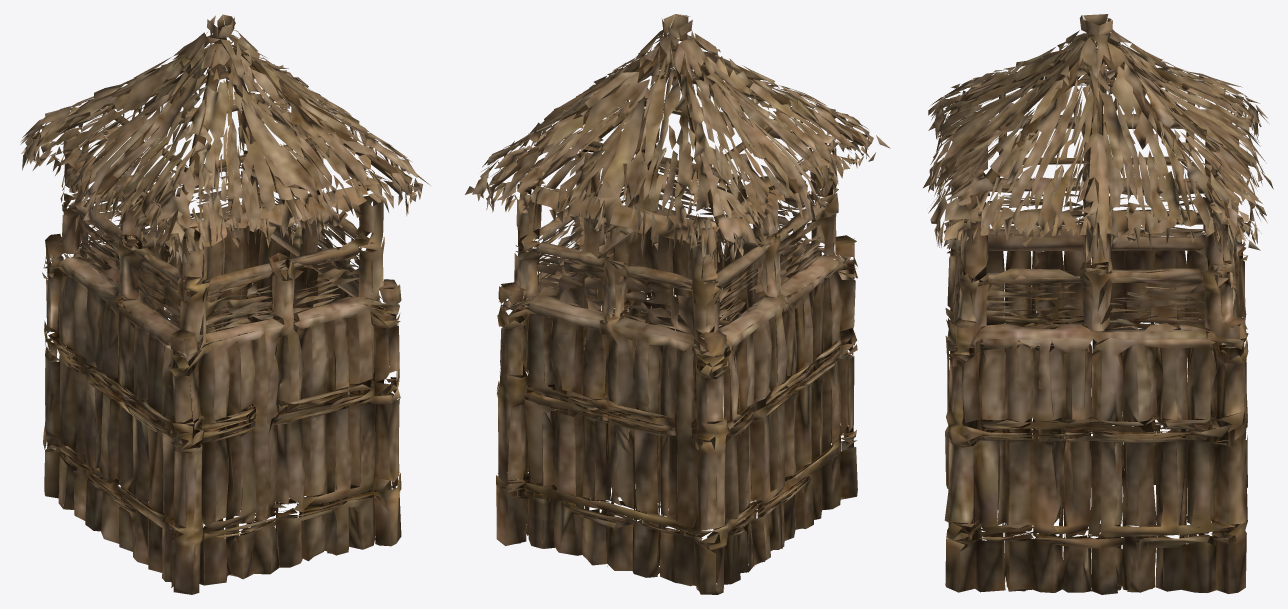
File: watchtower_far.glb
3 views of the same model, side by side, from view 1: azimuth 30°, elevation 25°; view 2: azimuth 150°, elevation 25°; view 3: azimuth 270°, elevation 25° (orthographic). The views are drawn at different scales.
Visible parts, largest first — view 1: model; view 2: model; view 3: model.
Part boxes in pixels (left/top/right/bottom): model: left=20, top=14, right=430, bottom=594; model: left=465, top=14, right=890, bottom=594; model: left=923, top=14, right=1273, bottom=594.
Bounding box in the file's own units: 0.6006 × 0.9984 × 0.6181.
Materials: 1 (1 with a texture image).
